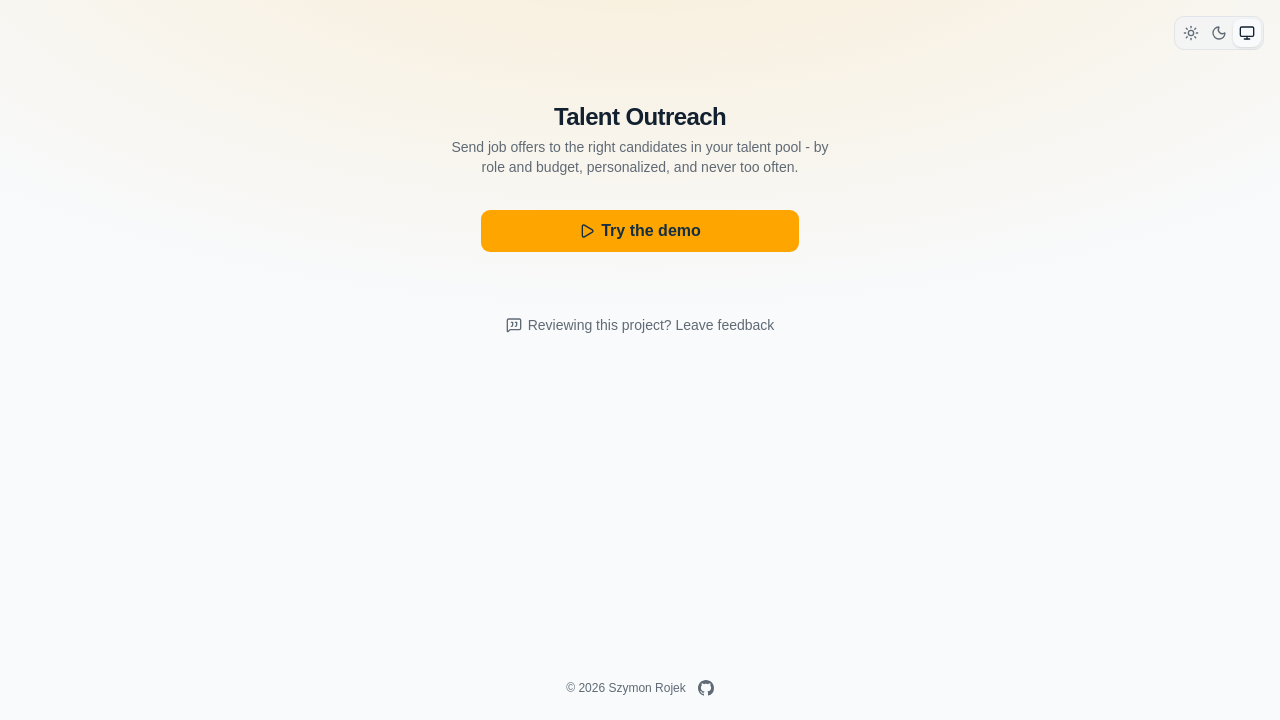
Scenario: LoginForm › shows the error when the demo can not be opened
Click the button "Try the demo".
click(640, 231)  # box [480, 209, 800, 253]
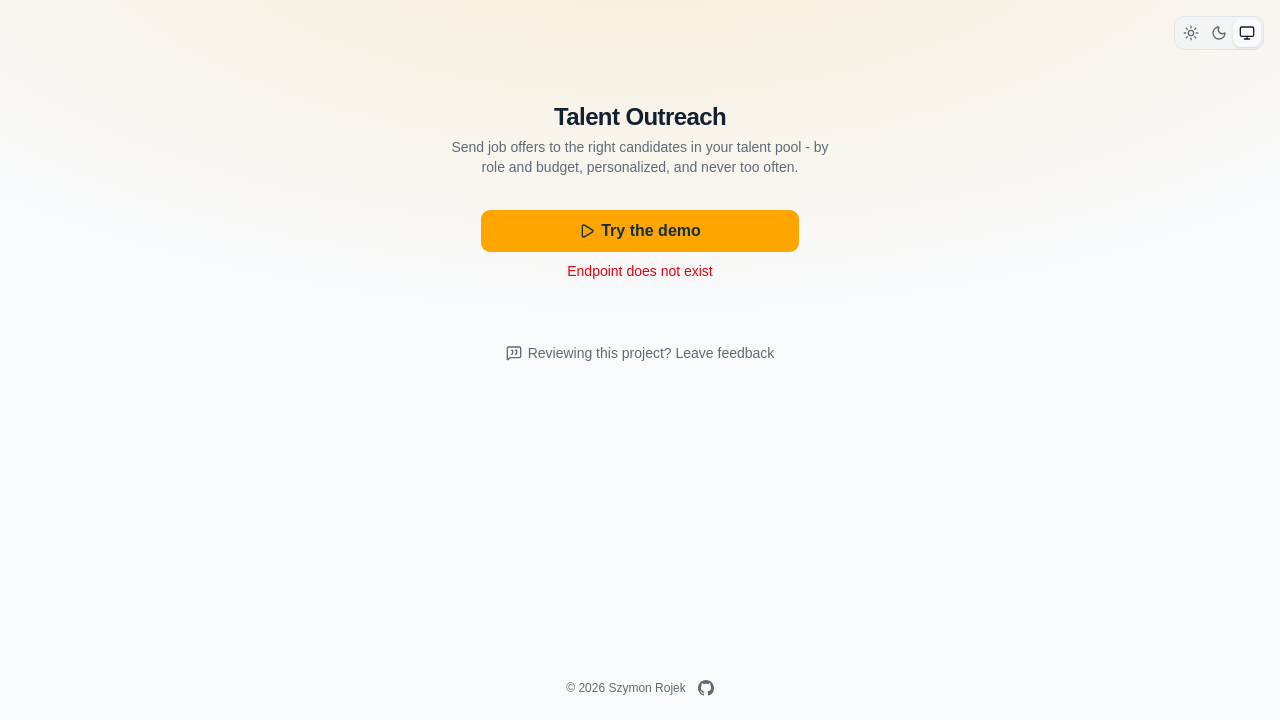
Expected: the message reads "Endpoint does not exist", [567, 263, 713, 279]
